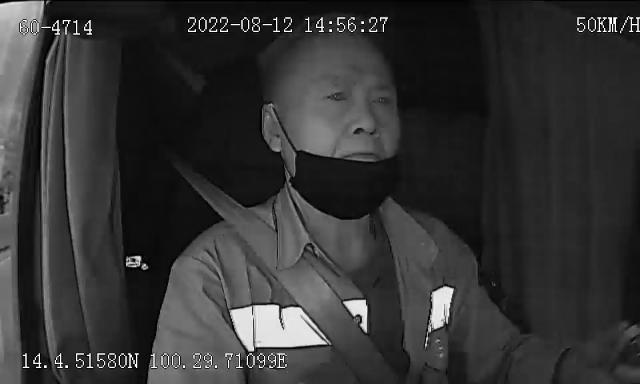SafeDriving: (320, 80, 355, 109), (364, 85, 398, 113)
Seatbelt: (168, 137, 402, 384)
